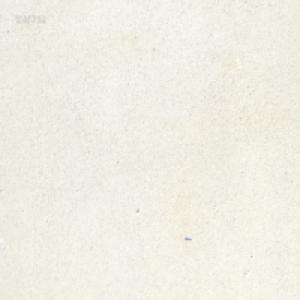Nail: (184, 235, 191, 241)
